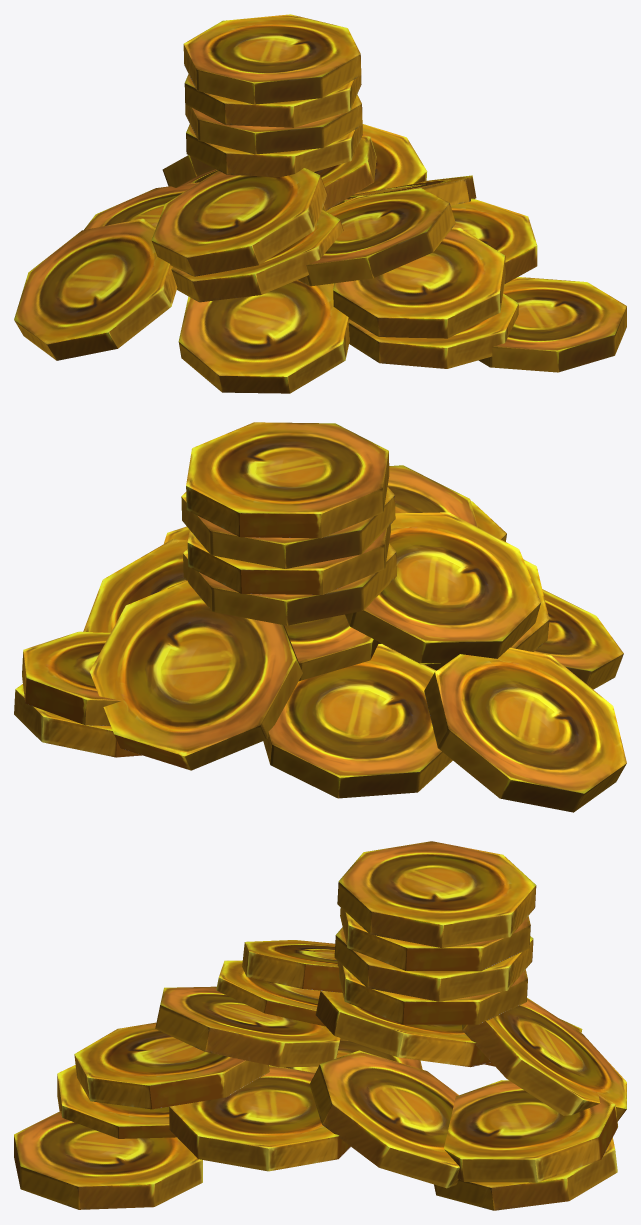
The model's file is Coin_Pile_1.fbx.
3 renders of one model, top to bottom at view 1: azimuth 30°, elevation 25°; view 2: azimuth 150°, elevation 25°; view 3: azimuth 270°, elevation 25°, orthographic. The views are drawn at different scales.
Visible parts, largest first — view 1: Coin_Pile_1; view 2: Coin_Pile_1; view 3: Coin_Pile_1.
Boxes of the visible parts, x1,y1,x2,y2 form: Coin_Pile_1: (14,14,626,393); Coin_Pile_1: (14,422,626,812); Coin_Pile_1: (14,841,626,1210).
Bounding box in the file's own units: 61.38 × 30.6 × 66.46.
